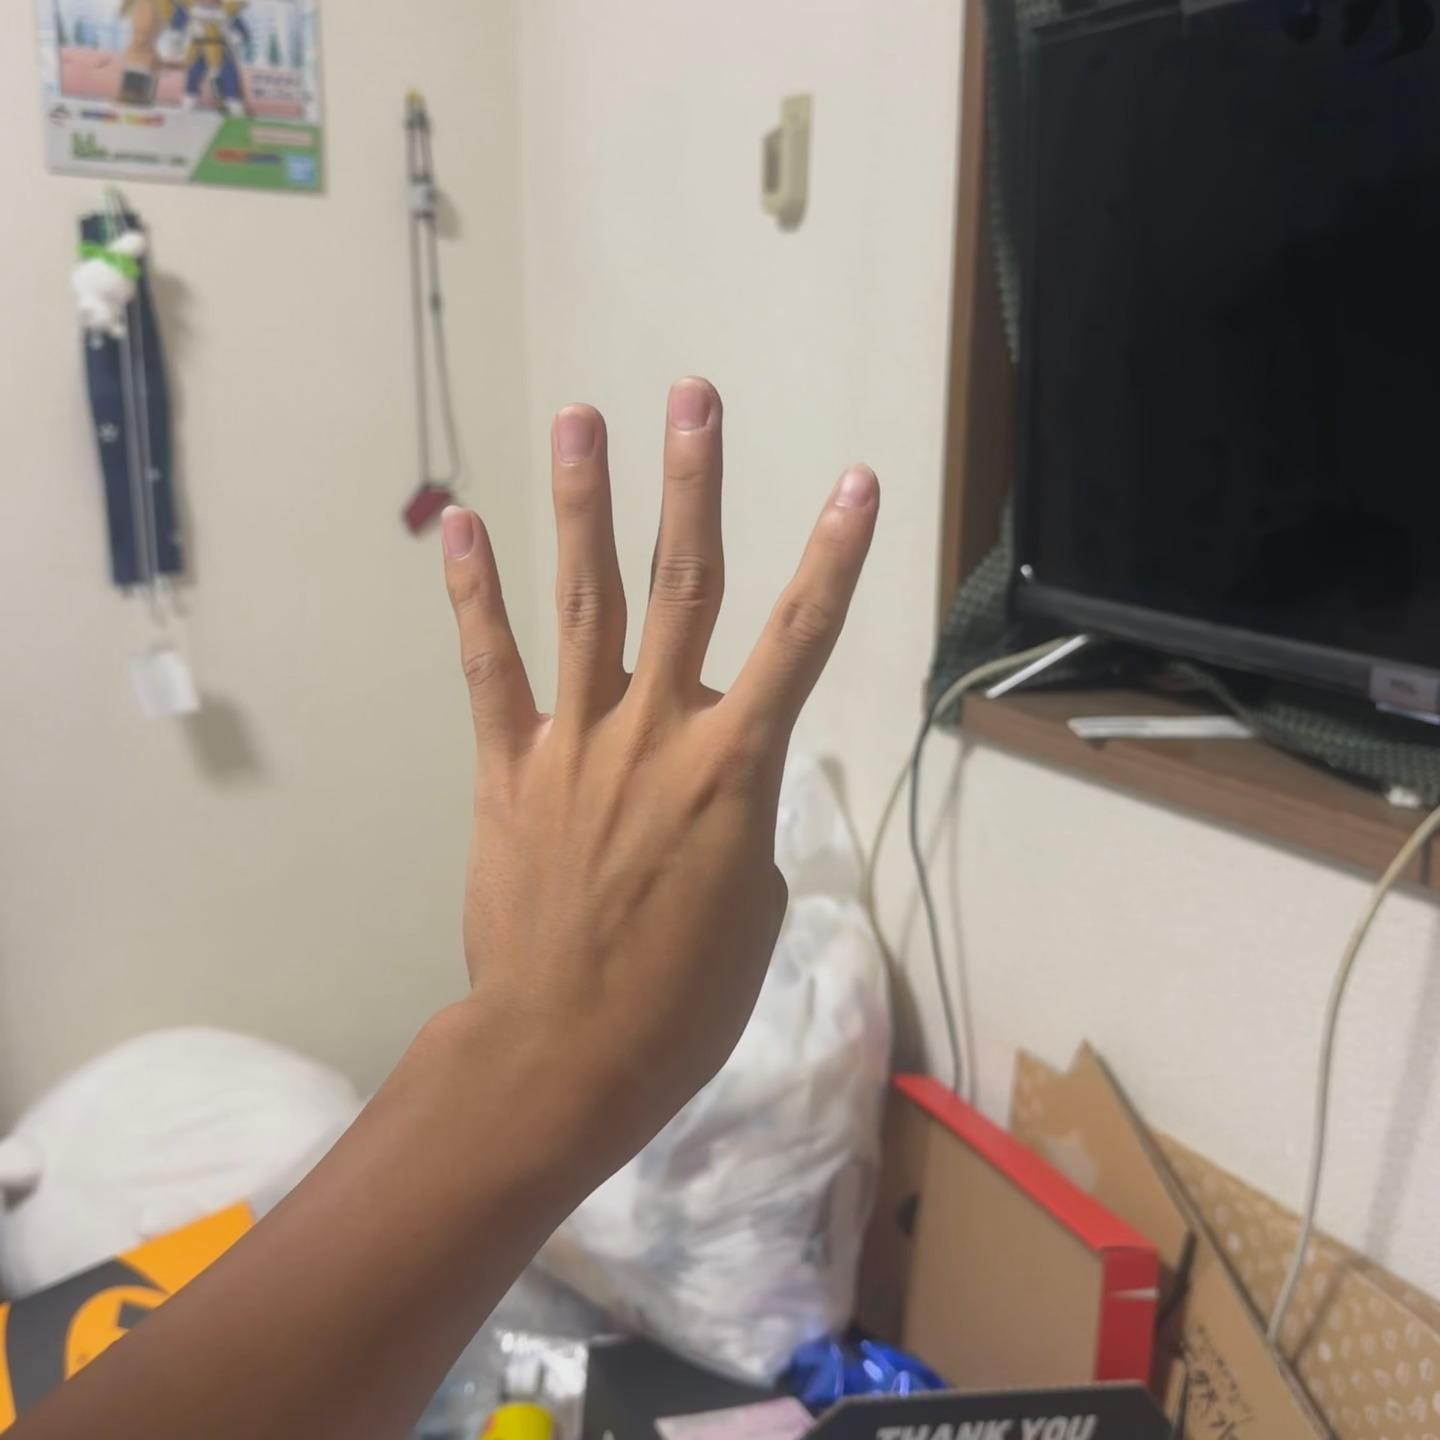without_gloves: (282, 277, 963, 1141)
